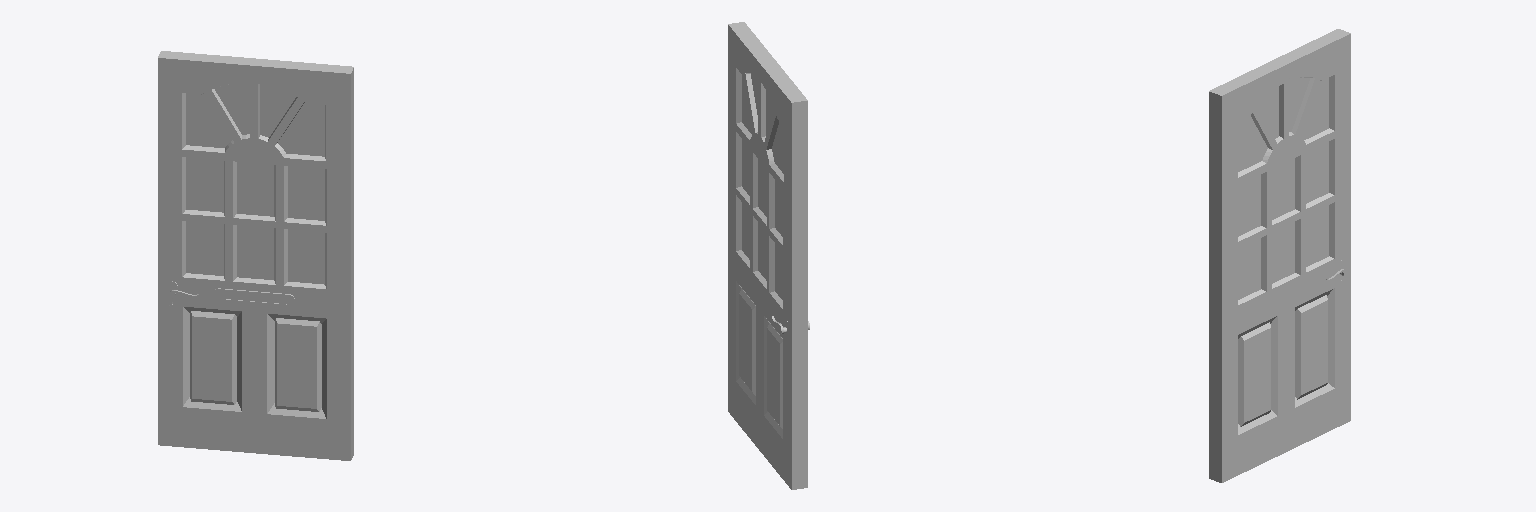
The model's file is door_000011.obj.
3 renders of one model, left to right at view 1: azimuth 30°, elevation 25°; view 2: azimuth 150°, elevation 25°; view 3: azimuth 270°, elevation 25°, orthographic.
Visible parts, largest first — view 1: Door.003; view 2: Door.003; view 3: Door.003.
Part boxes in pixels (left/top/right/bottom): Door.003: left=158, top=51, right=353, bottom=460; Door.003: left=728, top=22, right=809, bottom=489; Door.003: left=1209, top=29, right=1350, bottom=482.
Bounding box in the file's own units: 0.5997 × 1.6 × 0.5353.